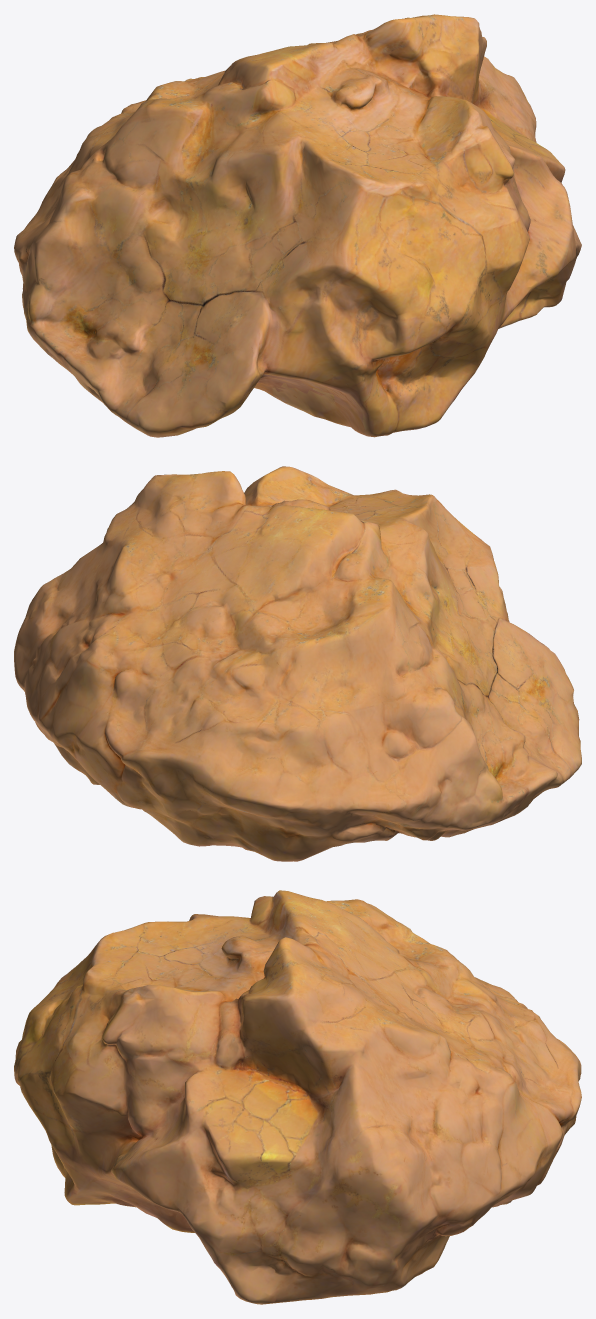
Rendered from Copper Ore 2.fbx.
3 views of the same model, one above another, from view 1: azimuth 30°, elevation 25°; view 2: azimuth 150°, elevation 25°; view 3: azimuth 270°, elevation 25° (orthographic). The views are drawn at different scales.
Parts seen in each view (by area): view 1: Mesh_0; view 2: Mesh_0; view 3: Mesh_0.
Part boxes in pixels (x1,y1,x2,y2): Mesh_0: (14,14,581,437); Mesh_0: (14,466,581,861); Mesh_0: (14,890,581,1304).
Size of the model in its own units: 201 by 118 by 200.
Materials: 1 (1 with a texture image).
